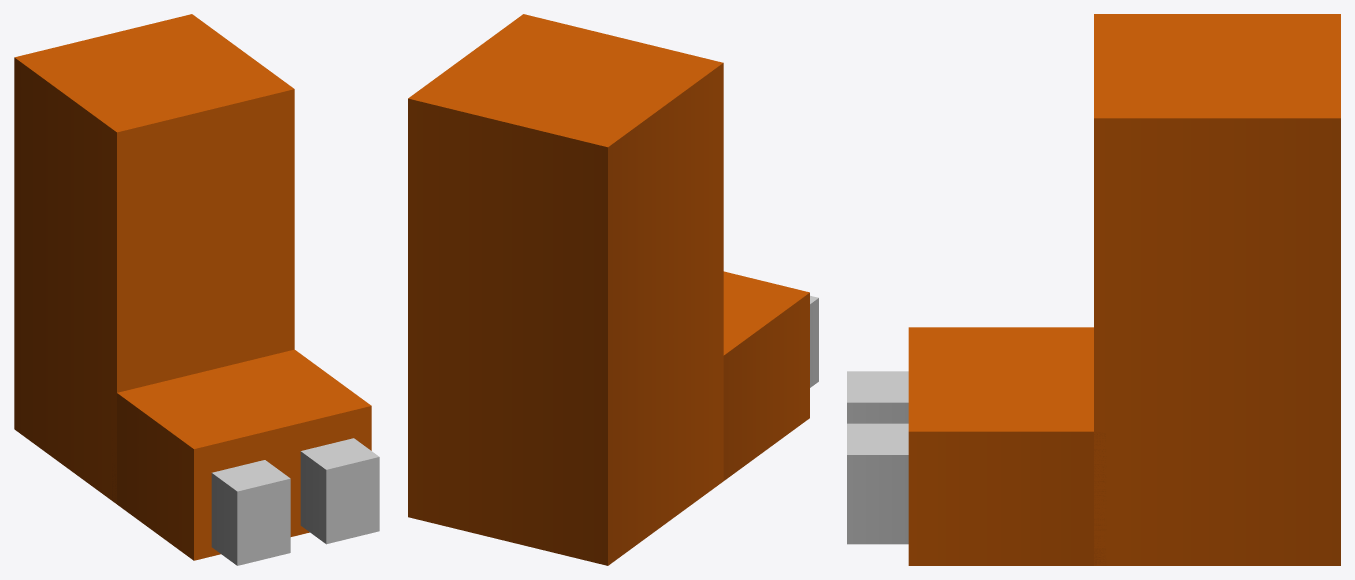
File: googelon-leg.glb
The picture shows the model from 3 angles, left to right: view 1: azimuth 30°, elevation 25°; view 2: azimuth 150°, elevation 25°; view 3: azimuth 270°, elevation 25°; orthographic projection. The views are drawn at different scales.
Parts seen in each view (by area): view 1: mesh0; view 2: mesh0; view 3: mesh0.
Part boxes in pixels (left/top/right/bottom): mesh0: left=14, top=14, right=379, bottom=565; mesh0: left=408, top=14, right=818, bottom=565; mesh0: left=847, top=14, right=1340, bottom=565.
Size of the model in its own units: 0.2 by 0.4 by 0.4.
